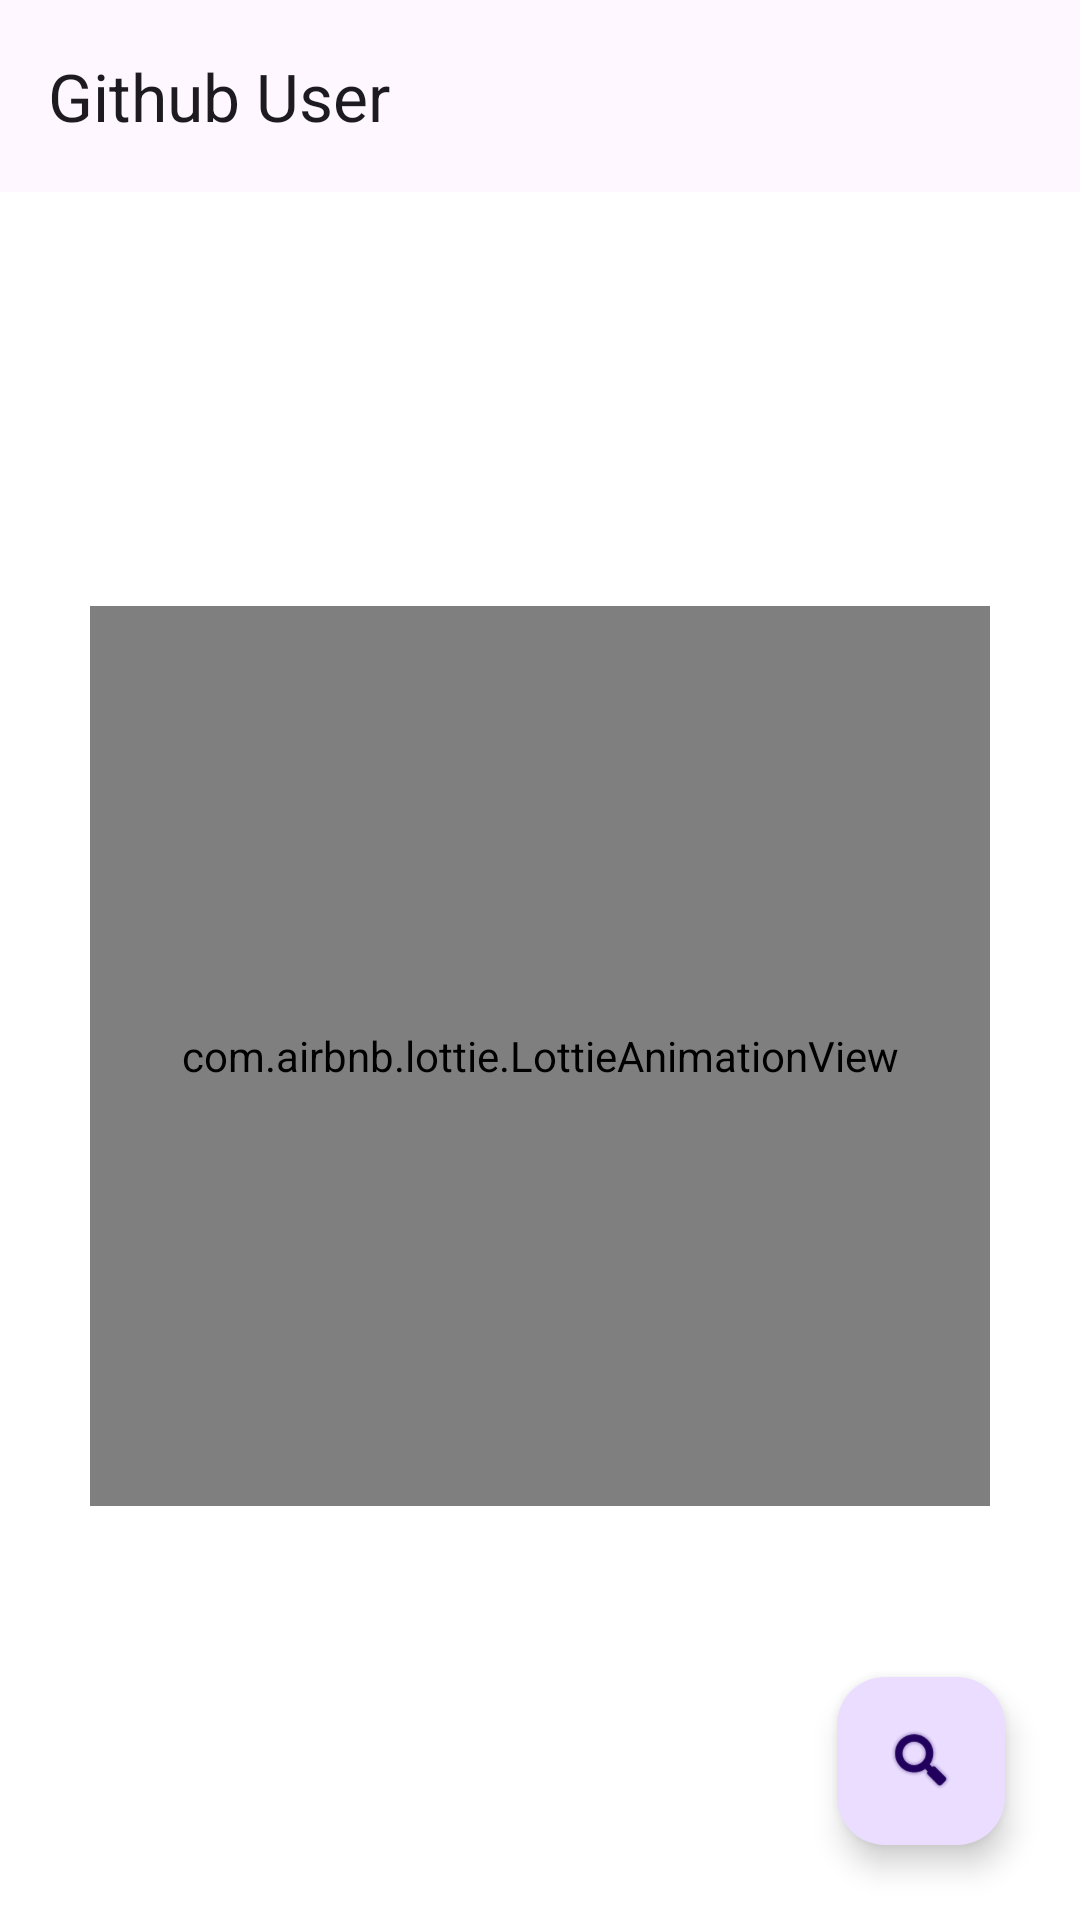

Screen size 1080x1920. Icon name, then its center in pixels as (x,y):
search button: (921,1761)
